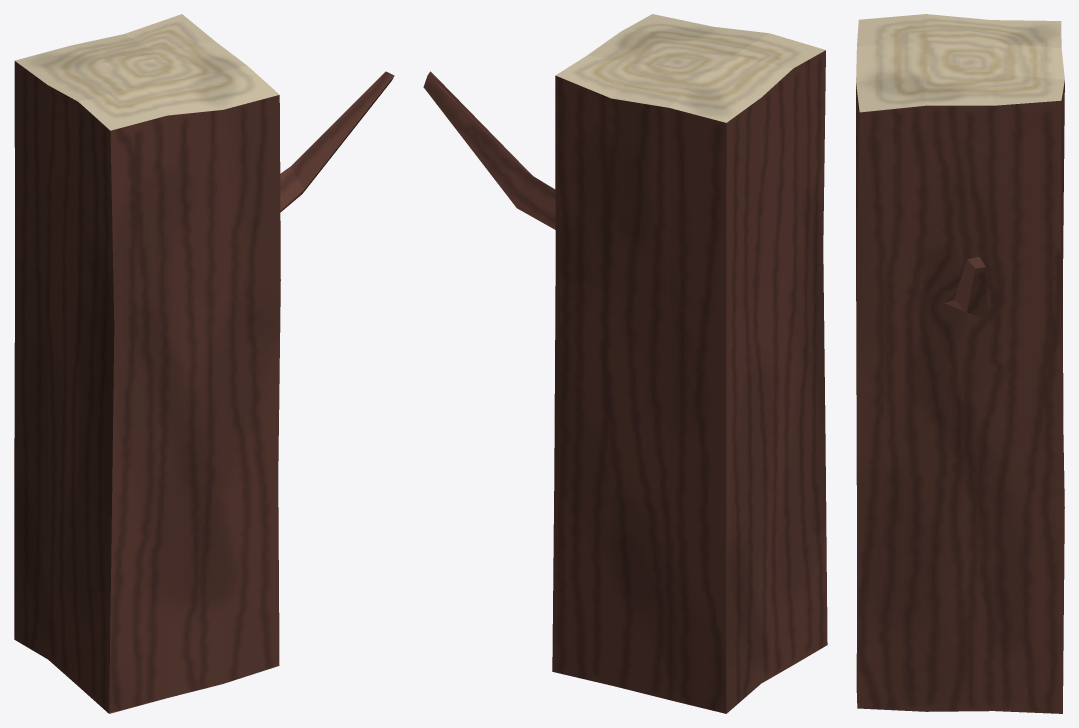
Rendered from item_log.fbx.
3 views of the same model, side by side, from view 1: azimuth 30°, elevation 25°; view 2: azimuth 150°, elevation 25°; view 3: azimuth 270°, elevation 25° (orthographic). The views are drawn at different scales.
Parts seen in each view (by area): view 1: item_log; view 2: item_log; view 3: item_log.
Part boxes in pixels (left/top/right/bottom): item_log: left=14, top=14, right=394, bottom=713; item_log: left=423, top=14, right=827, bottom=713; item_log: left=856, top=14, right=1064, bottom=713.
Size of the model in its own units: 2.01 by 1.03 by 3.35.
